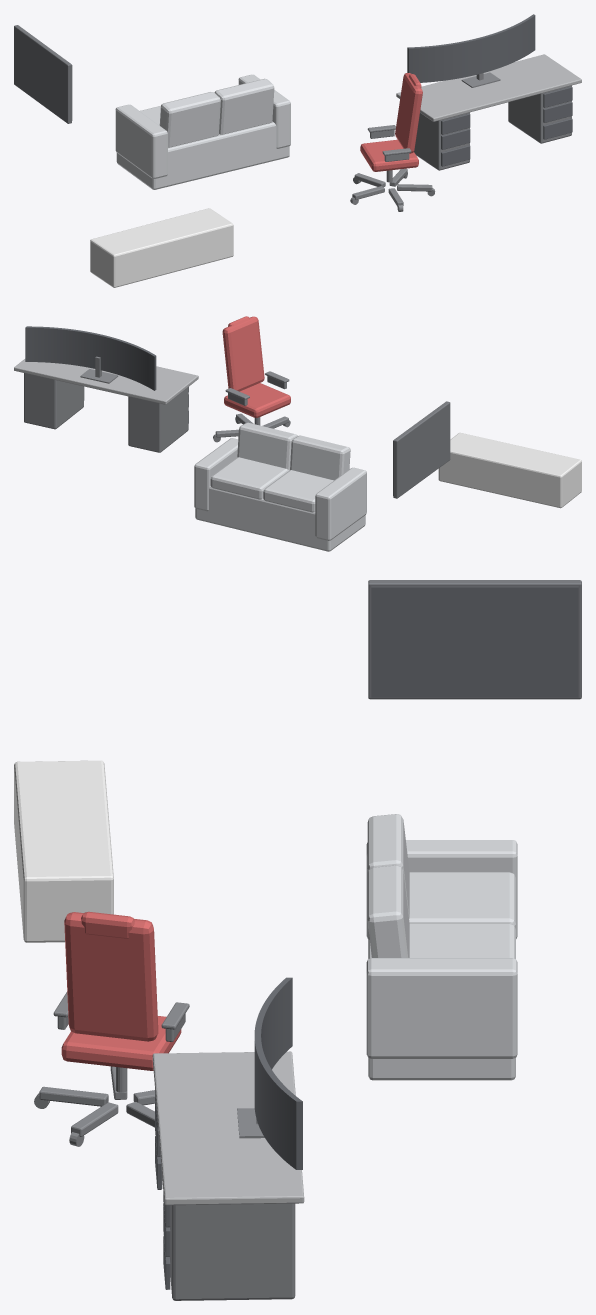
The model's file is agent_scene.glb.
3 views of the same model, one above another, from view 1: azimuth 30°, elevation 25°; view 2: azimuth 150°, elevation 25°; view 3: azimuth 270°, elevation 25° (orthographic). The views are drawn at different scales.
Visible parts, largest first — view 1: bench_body, desk_top, sofa_base, monitor, tv_panel, sofa_arm1, sofa_bk1, sofa_bk0, desk_ped_R, chair_back, desk_ped_L, chair_seat (+7 smaller); view 2: bench_body, monitor, sofa_base, tv_panel, desk_top, desk_ped_L, sofa_arm1, desk_ped_R, chair_back, sofa_bk1, sofa_seat0, sofa_bk0 (+3 smaller); view 3: tv_screen, desk_top, bench_body, sofa_arm-1, desk_ped_R, chair_back, monitor, sofa_seat1, sofa_arm1, sofa_seat0, sofa_bk0, sofa_base (+5 smaller).
Part boxes in pixels (<box>): bench_body: <box>90,208,233,287</box>; desk_top: <box>396,54,581,121</box>; sofa_base: <box>116,121,289,189</box>; monitor: <box>407,14,535,82</box>; tv_panel: <box>14,25,71,123</box>; sofa_arm1: <box>115,104,167,178</box>; sofa_bk1: <box>159,92,220,147</box>; sofa_bk0: <box>214,78,274,134</box>; desk_ped_R: <box>508,85,571,143</box>; chair_back: <box>395,73,422,153</box>; desk_ped_L: <box>414,112,469,170</box>; chair_seat: <box>360,139,418,171</box>; bench_body: <box>438,432,581,508</box>; monitor: <box>25,326,156,390</box>; sofa_base: <box>195,486,365,551</box>; tv_panel: <box>393,401,450,498</box>; desk_top: <box>14,359,198,404</box>; desk_ped_L: <box>128,387,188,452</box>; sofa_arm1: <box>315,467,366,540</box>; desk_ped_R: <box>24,373,83,429</box>; chair_back: <box>222,316,264,391</box>; sofa_bk1: <box>290,435,350,480</box>; sofa_seat0: <box>210,457,288,499</box>; sofa_bk0: <box>237,422,297,470</box>; tv_screen: <box>371,586,578,697</box>; desk_top: <box>152,1051,304,1205</box>; bench_body: <box>14,760,113,942</box>; sofa_arm-1: <box>366,958,517,1058</box>; desk_ped_R: <box>170,1203,295,1300</box>; chair_back: <box>64,912,158,1041</box>; monitor: <box>254,977,302,1169</box>; sofa_seat1: <box>409,872,515,928</box>; sofa_arm1: <box>366,840,517,938</box>; sofa_seat0: <box>409,923,515,958</box>; sofa_bk0: <box>367,865,409,957</box>; sofa_base: <box>368,929,515,1080</box>.
Size of the model in its own units: 7.02 by 1.94 by 3.45.
